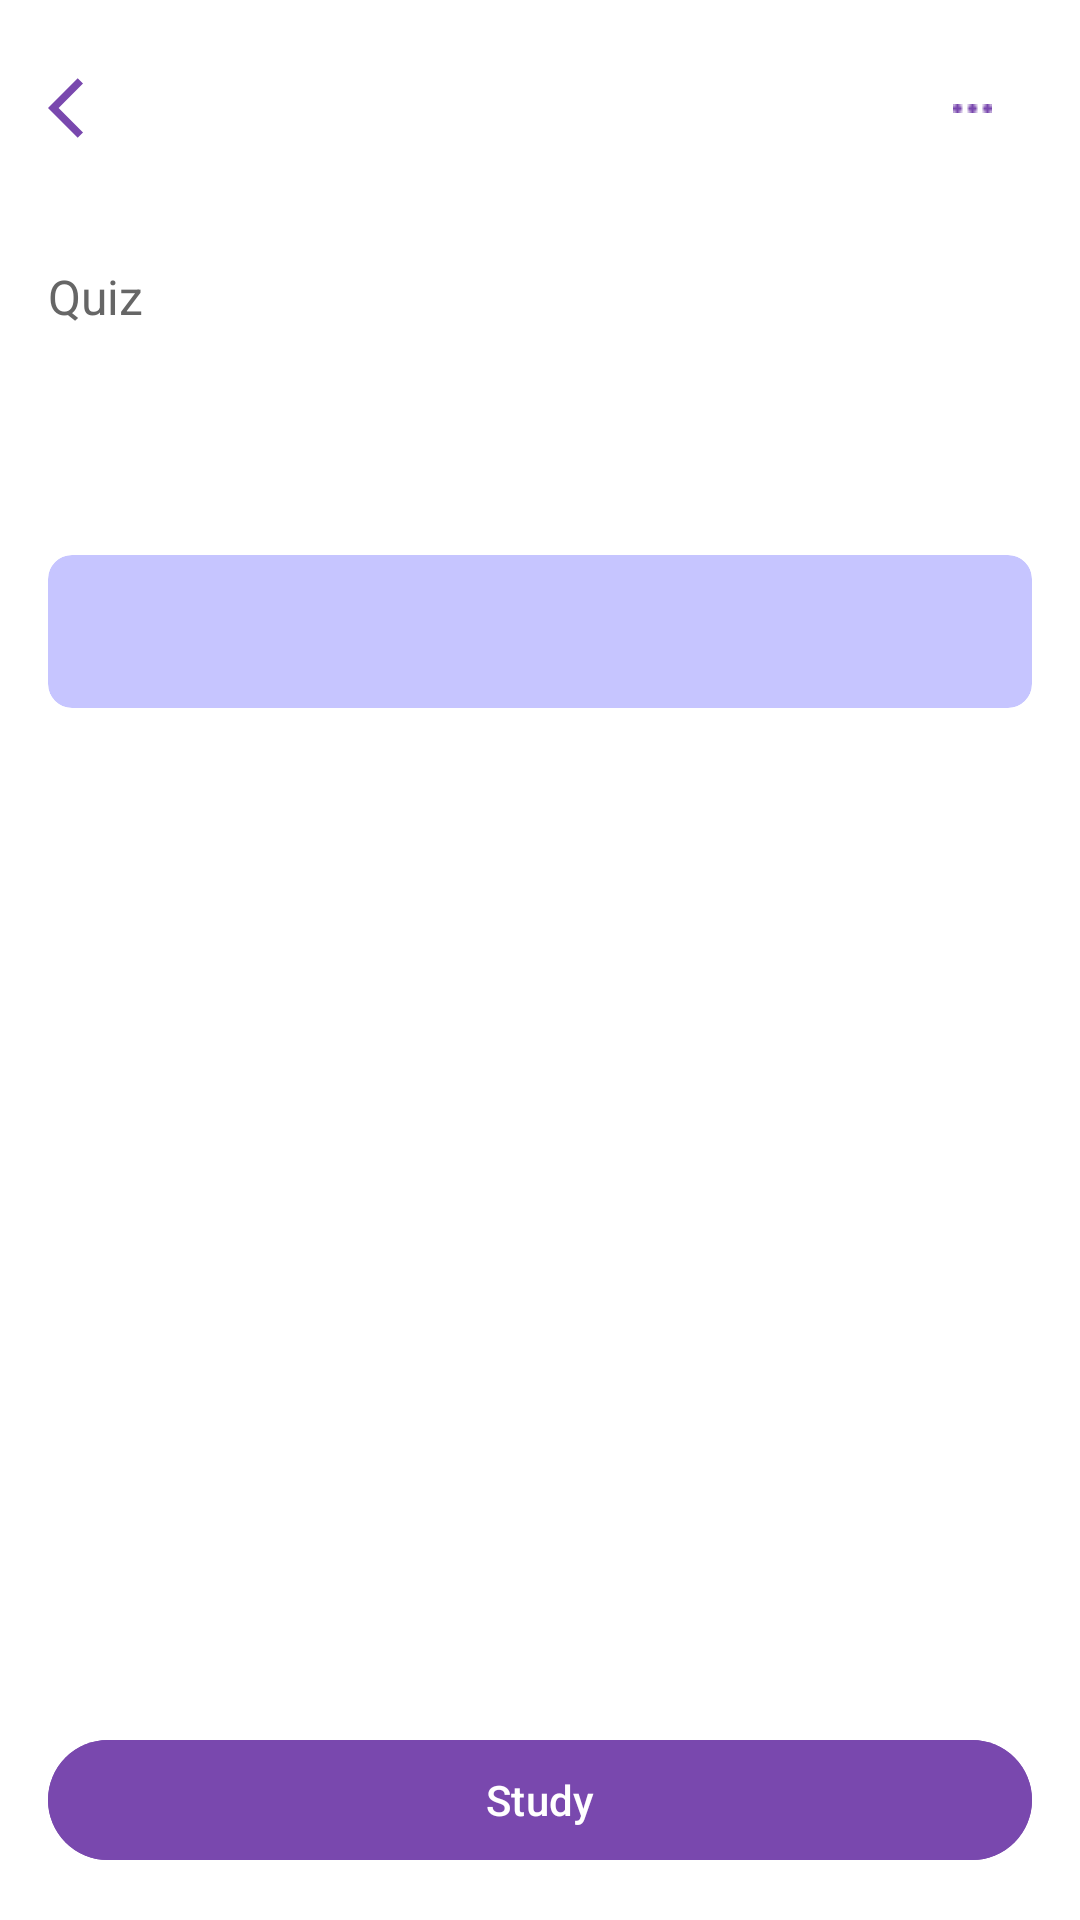

Screen size 1080 x 1920. Icon name, then its center in pixels as point (x, y):
Back: point (65, 108)
Menu: point (972, 108)
